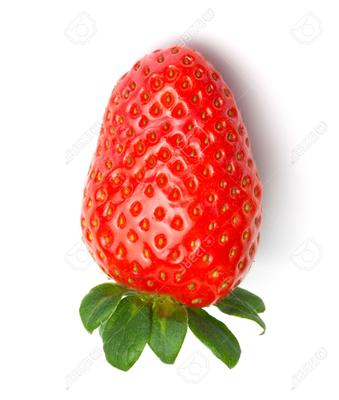strawberry: (0, 0, 339, 400)
